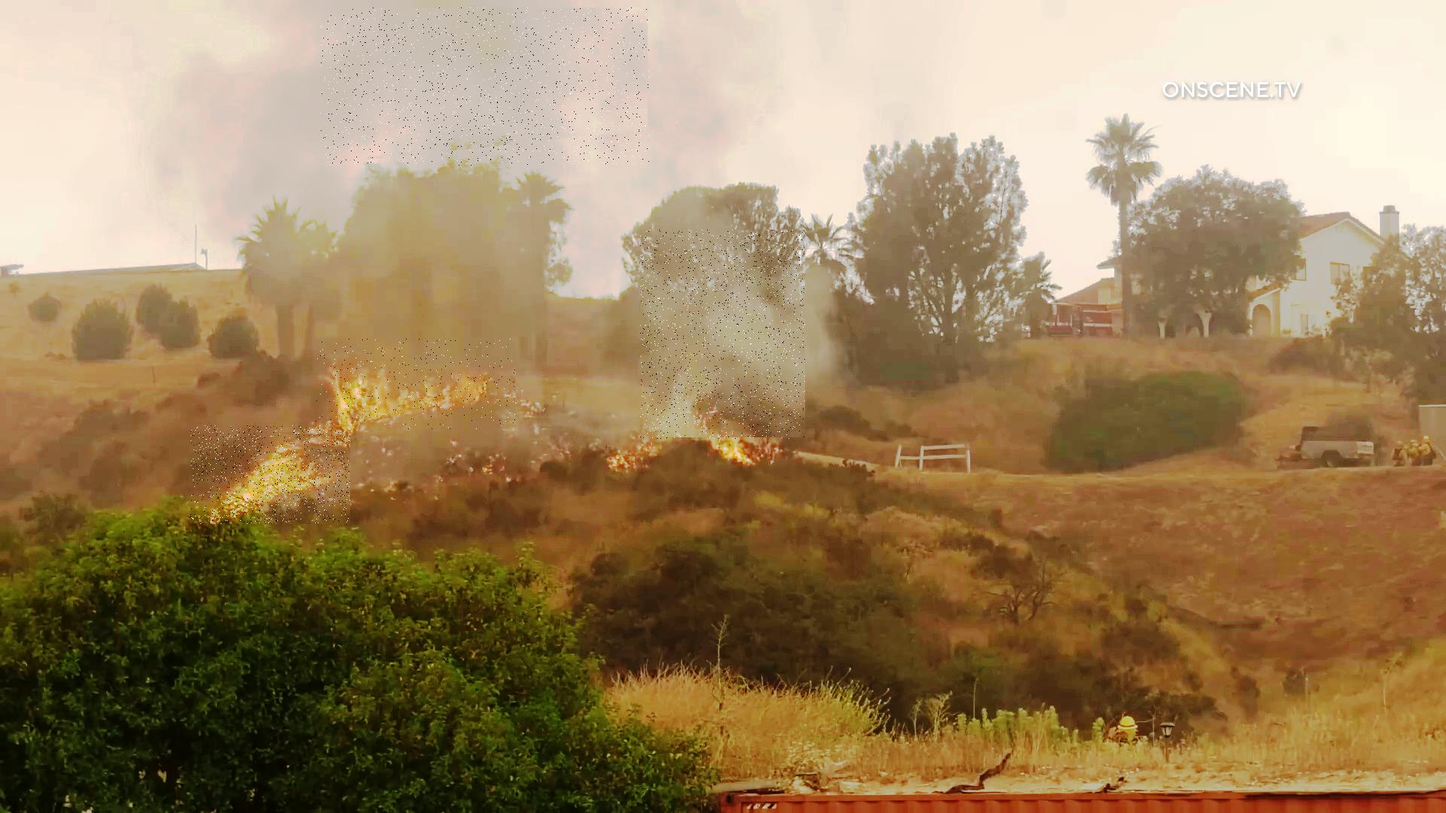fire: (316, 339, 516, 429), (191, 426, 350, 524)
smoke: (321, 8, 650, 166), (640, 230, 805, 440)
